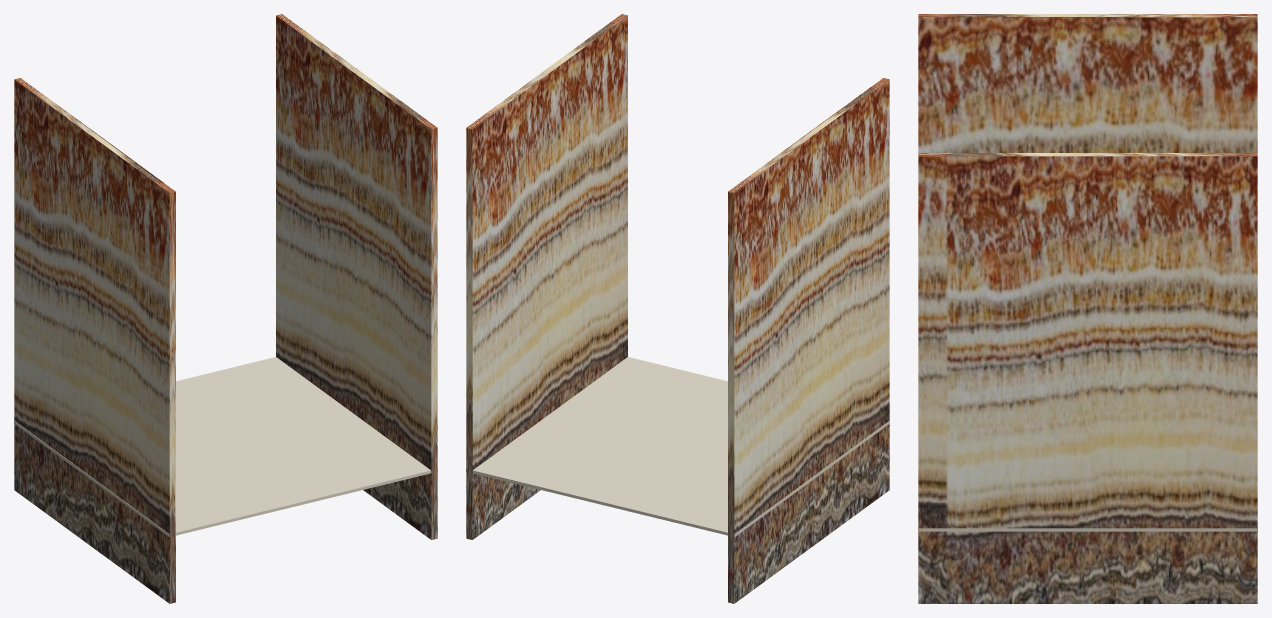
File: Wall01.fbx
3 renders of one model, left to right at view 1: azimuth 30°, elevation 25°; view 2: azimuth 150°, elevation 25°; view 3: azimuth 270°, elevation 25°, orthographic. The views are drawn at different scales.
Parts seen in each view (by area): view 1: pCube5, pCube4, pCube1; view 2: pCube5, pCube4, pCube1; view 3: pCube4, pCube5, pCube1.
Part boxes in pixels (x1,y1,x2,y2): pCube5: (14, 78, 175, 603); pCube4: (276, 14, 437, 539); pCube1: (14, 357, 437, 537); pCube5: (728, 78, 889, 603); pCube4: (466, 14, 627, 539); pCube1: (466, 357, 889, 537); pCube4: (918, 153, 1257, 603); pCube5: (918, 14, 1257, 152); pCube1: (919, 528, 1256, 531).
Bounding box in the file's own units: 1027 × 1500 × 1030.
2 materials, 1 textured.
